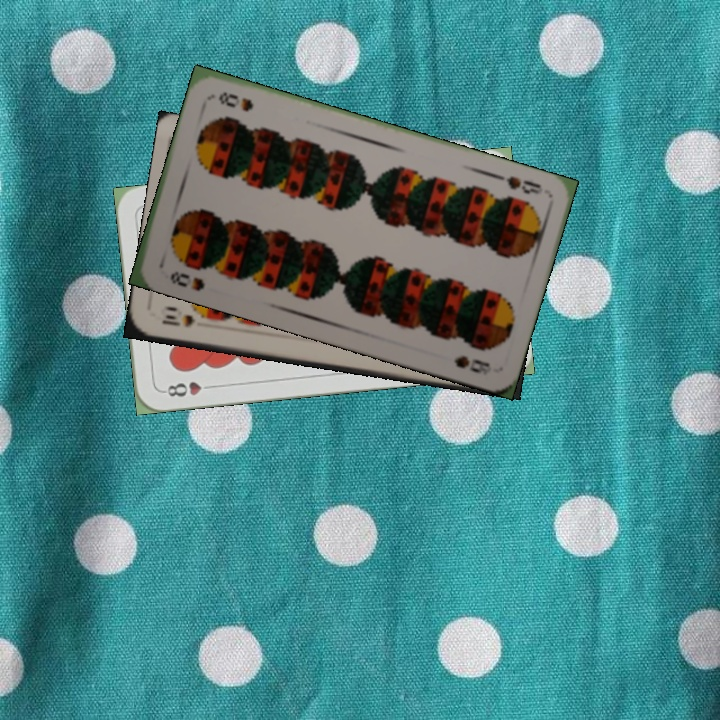H8: (159, 377, 218, 400)
S10: (157, 310, 198, 330)
S8: (490, 169, 546, 197), (166, 267, 207, 294)
